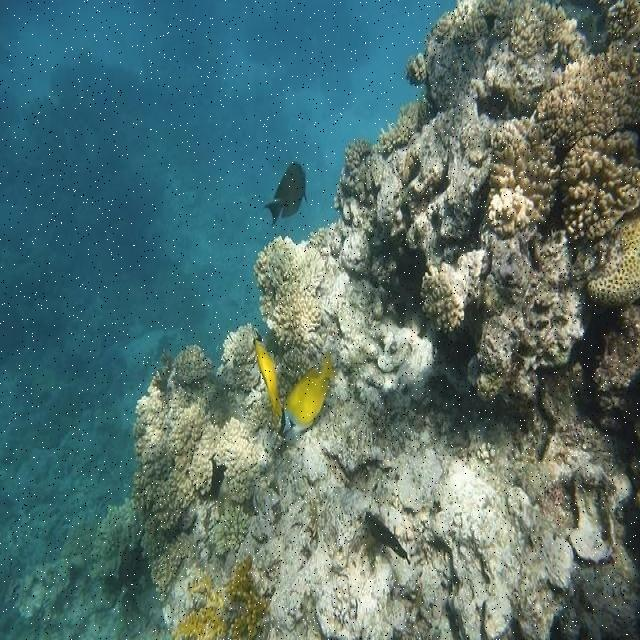fish: (285, 351, 341, 428), (264, 159, 307, 225), (254, 329, 279, 426)
sea-floor: (132, 0, 639, 639)
